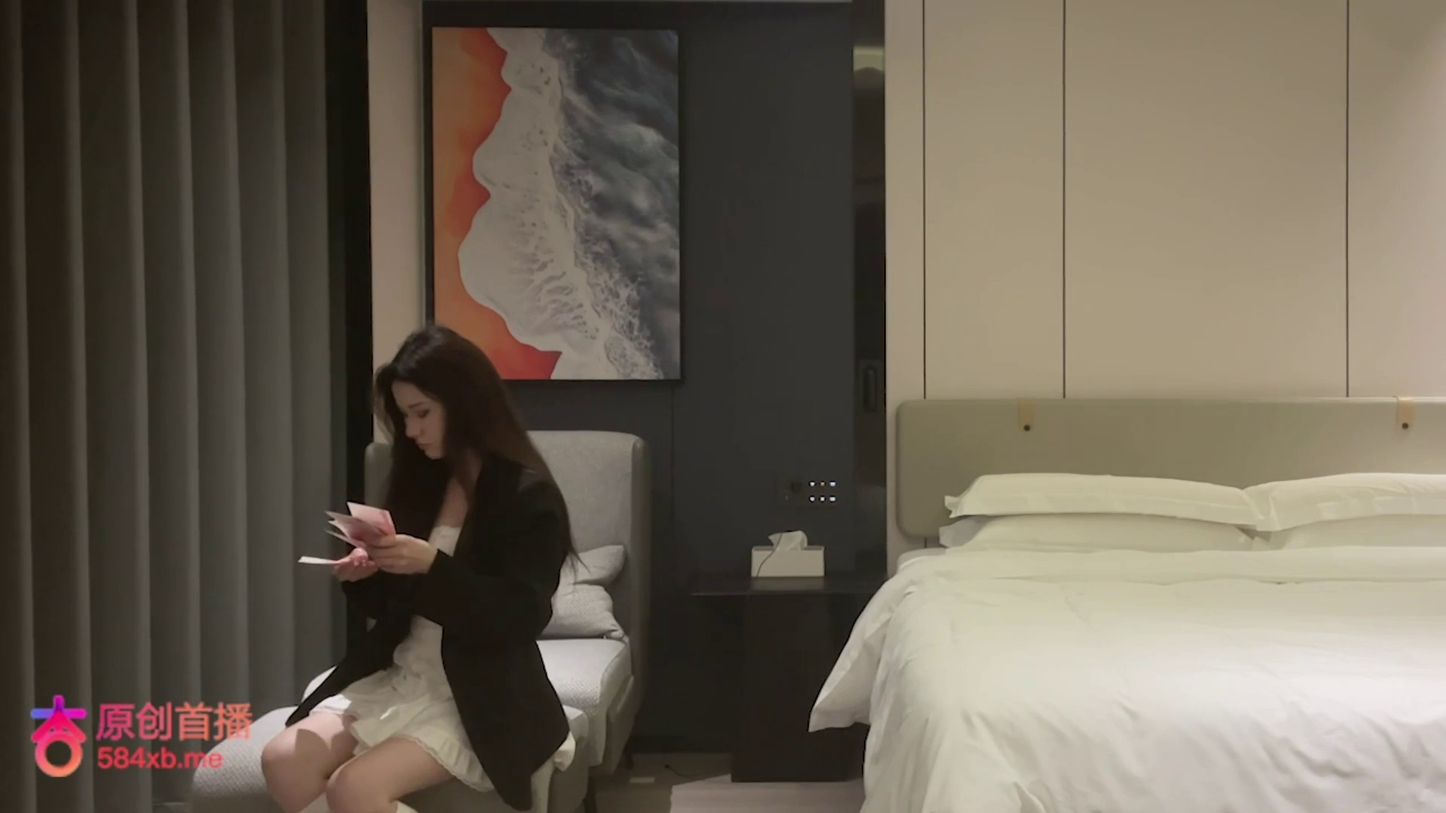sit: (261, 323, 575, 810)
